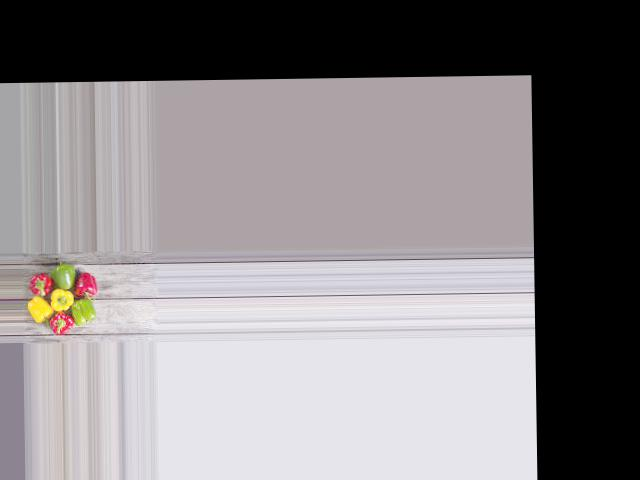bell_pepper: (24, 273, 52, 301)
